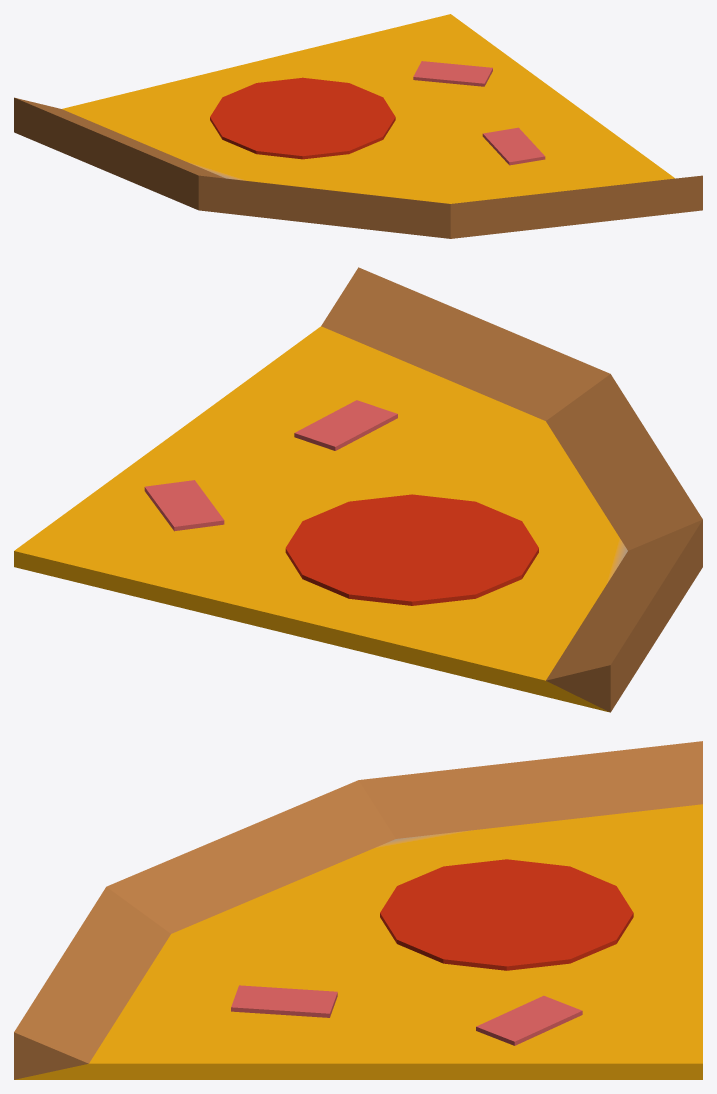
The model's file is pizza_slide.fbx.
The picture shows the model from 3 angles, top to bottom: view 1: azimuth 30°, elevation 25°; view 2: azimuth 150°, elevation 25°; view 3: azimuth 270°, elevation 25°; orthographic projection. The views are drawn at different scales.
Visible parts, largest first — view 1: Cylinder.001; view 2: Cylinder.001; view 3: Cylinder.001.
Boxes of the visible parts, bbox=[...] form: Cylinder.001: bbox=[14, 14, 702, 238]; Cylinder.001: bbox=[14, 267, 702, 712]; Cylinder.001: bbox=[14, 741, 702, 1079].
Size of the model in its own units: 0.1487 by 0.0113 by 0.1487.
1 material, 1 textured.
